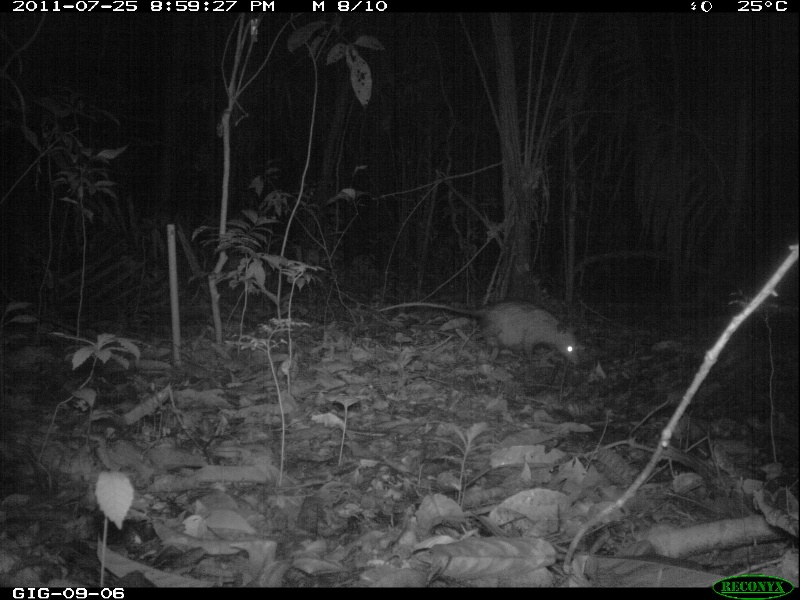opossum: (369, 294, 583, 366)
